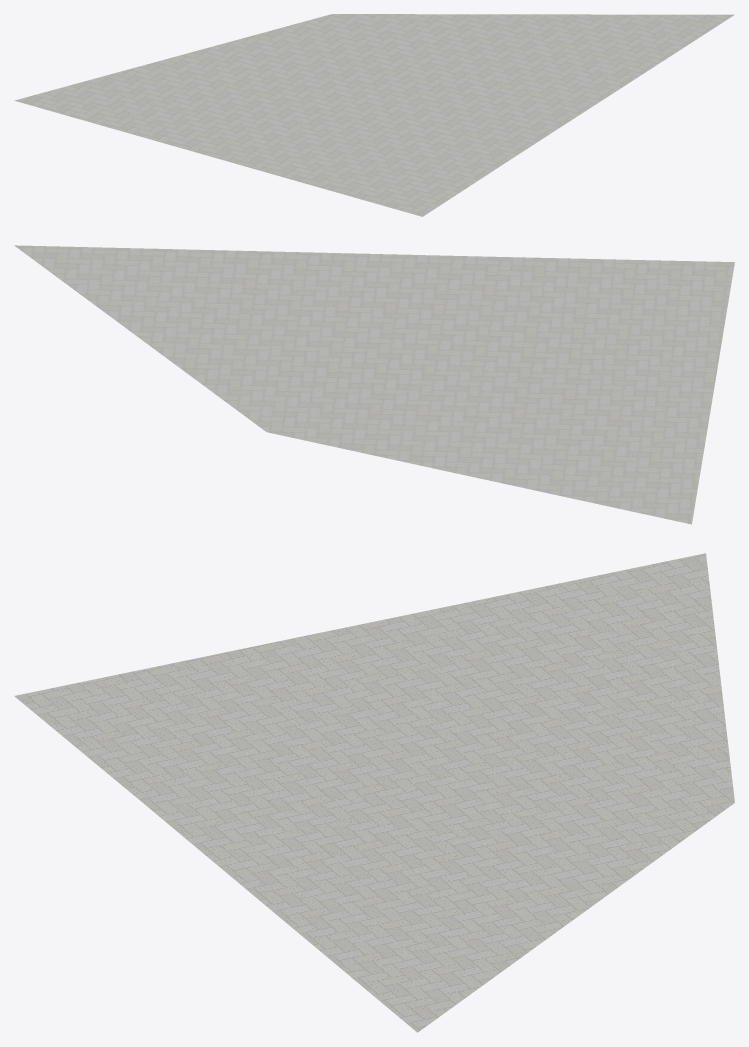
The model's file is kd_stage_1364a3_11_24_bounded.glb.
The picture shows the model from 3 angles, top to bottom: view 1: azimuth 30°, elevation 25°; view 2: azimuth 150°, elevation 25°; view 3: azimuth 270°, elevation 25°; orthographic projection. The views are drawn at different scales.
Visible parts, largest first — view 1: kd_stage_1364a3_11_24_bounded; view 2: kd_stage_1364a3_11_24_bounded; view 3: kd_stage_1364a3_11_24_bounded.
Part boxes in pixels (bbox=[...]): kd_stage_1364a3_11_24_bounded: bbox=[14, 14, 734, 216]; kd_stage_1364a3_11_24_bounded: bbox=[14, 245, 734, 524]; kd_stage_1364a3_11_24_bounded: bbox=[14, 553, 734, 1032].
Size of the model in its own units: 22.38 by 0 by 14.21.
Materials: 1 (1 with a texture image).
